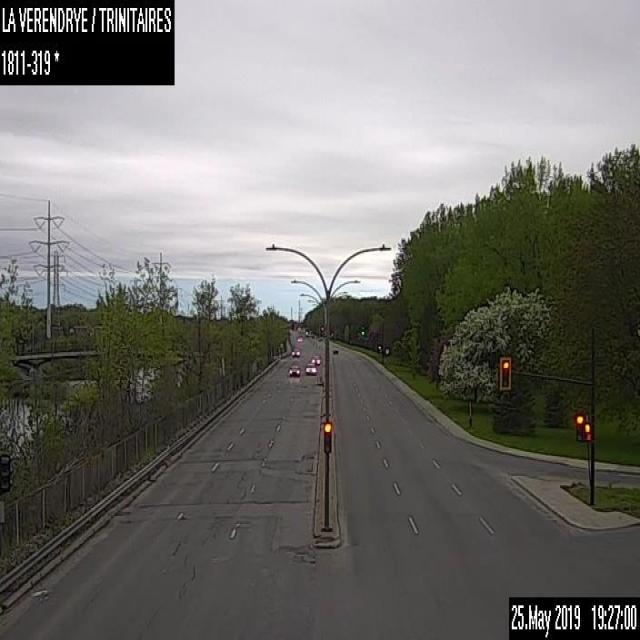vehicle: (304, 361, 316, 373), (289, 363, 300, 376), (310, 354, 320, 364), (291, 346, 299, 356), (331, 346, 338, 354), (296, 335, 302, 341)
